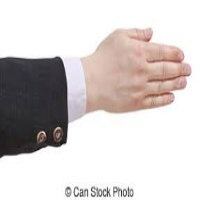ring: (138, 76, 191, 95)
